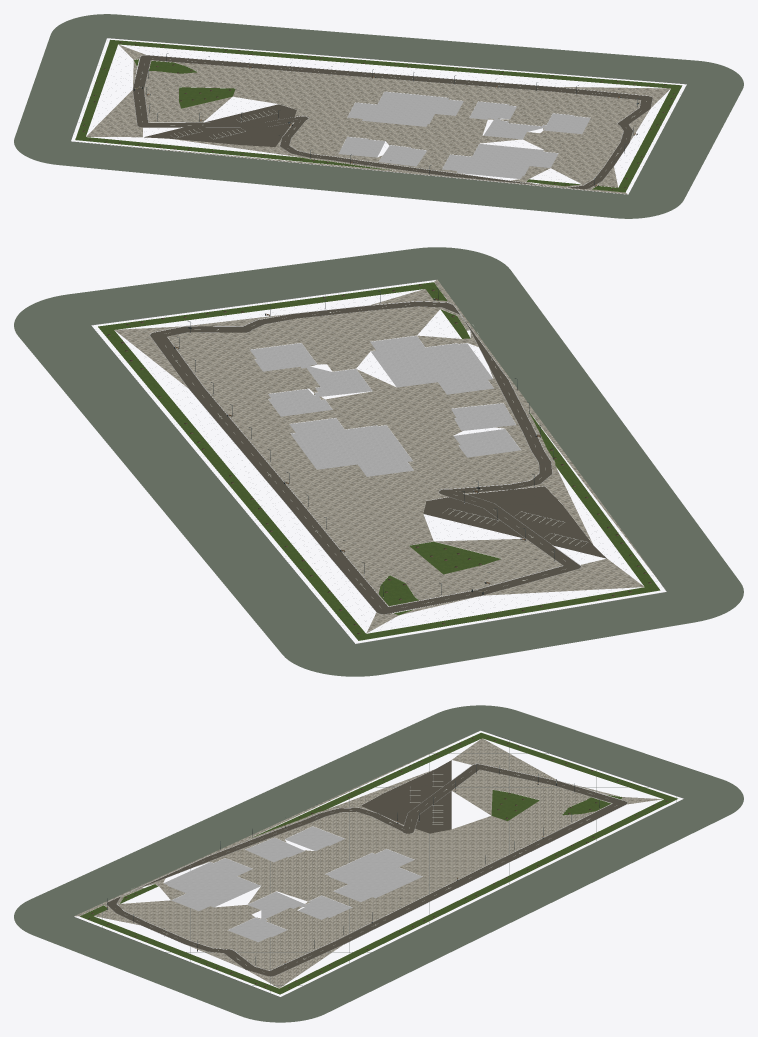
Rendered from site-lod0.glb.
The picture shows the model from 3 angles, top to bottom: view 1: azimuth 30°, elevation 25°; view 2: azimuth 150°, elevation 25°; view 3: azimuth 270°, elevation 25°; orthographic projection. The views are drawn at different scales.
Parts seen in each view (by area): view 1: site_MATERIAL_BATCH; view 2: site_MATERIAL_BATCH; view 3: site_MATERIAL_BATCH.
Part boxes in pixels (x1,y1,x2,y2): site_MATERIAL_BATCH: (14, 14, 743, 218); site_MATERIAL_BATCH: (14, 247, 743, 676); site_MATERIAL_BATCH: (14, 705, 743, 1022).
Size of the model in its own units: 377 by 5.39 by 366.
Materials: 11 (4 with a texture image).
